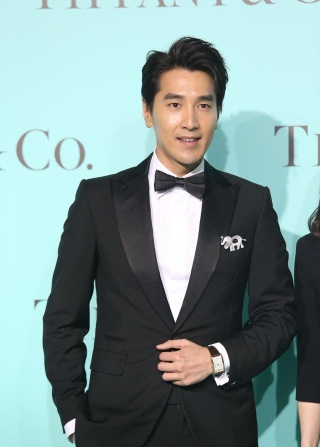male: (134, 33, 235, 176)
